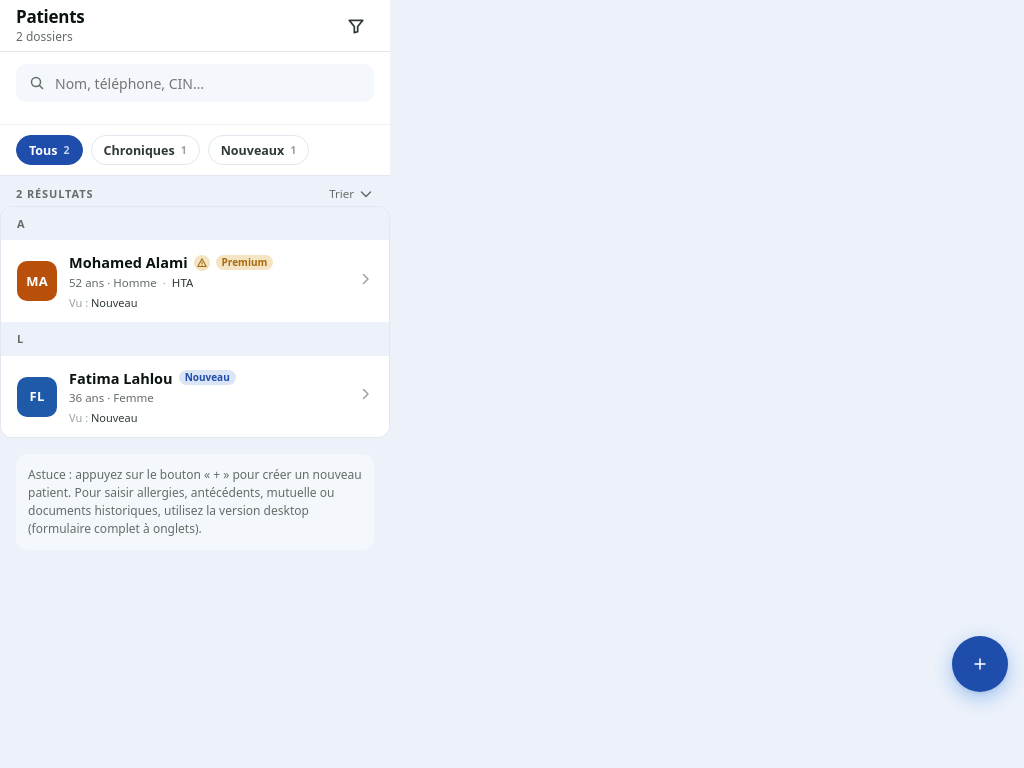
it: <PatientsListMobilePage /> — NRG › opens the NewPatientMobileSheet when the FAB is tapped
Click the button named "Nouveau patient".
click(980, 664)  # box [952,636,1008,692]
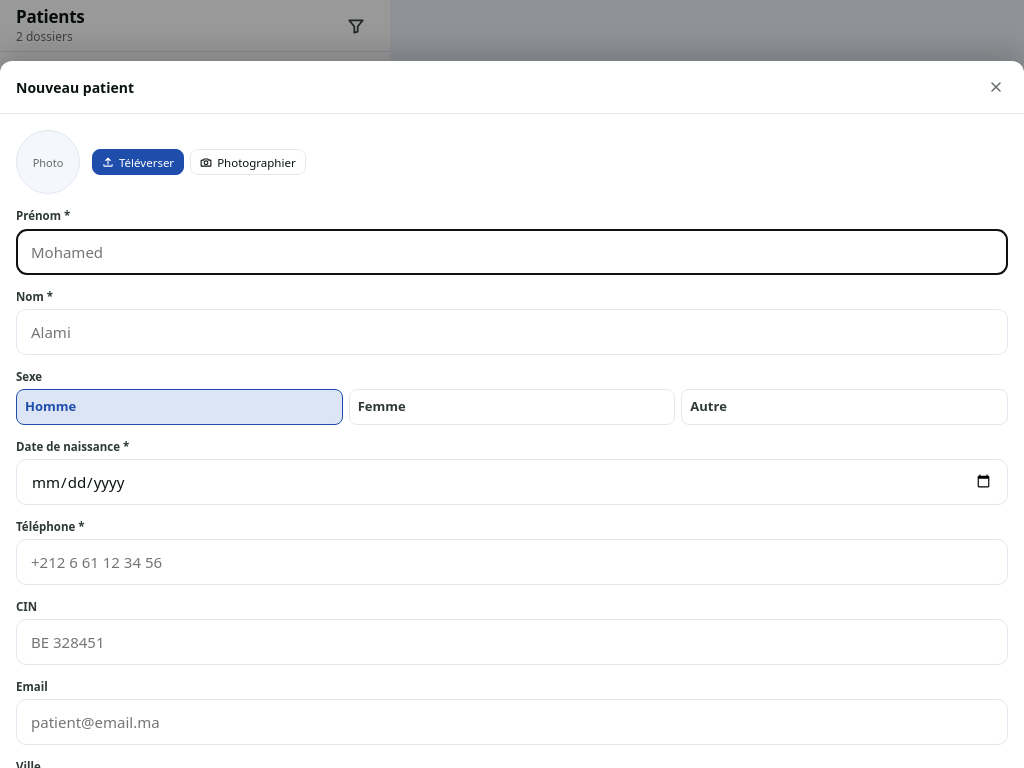
Check: the dialog is shown
Check: the field labelled "Prénom *" is shown, box [16,228,1008,274]
Check: the field labelled "Téléphone *" is shown, box [16,539,1008,585]
